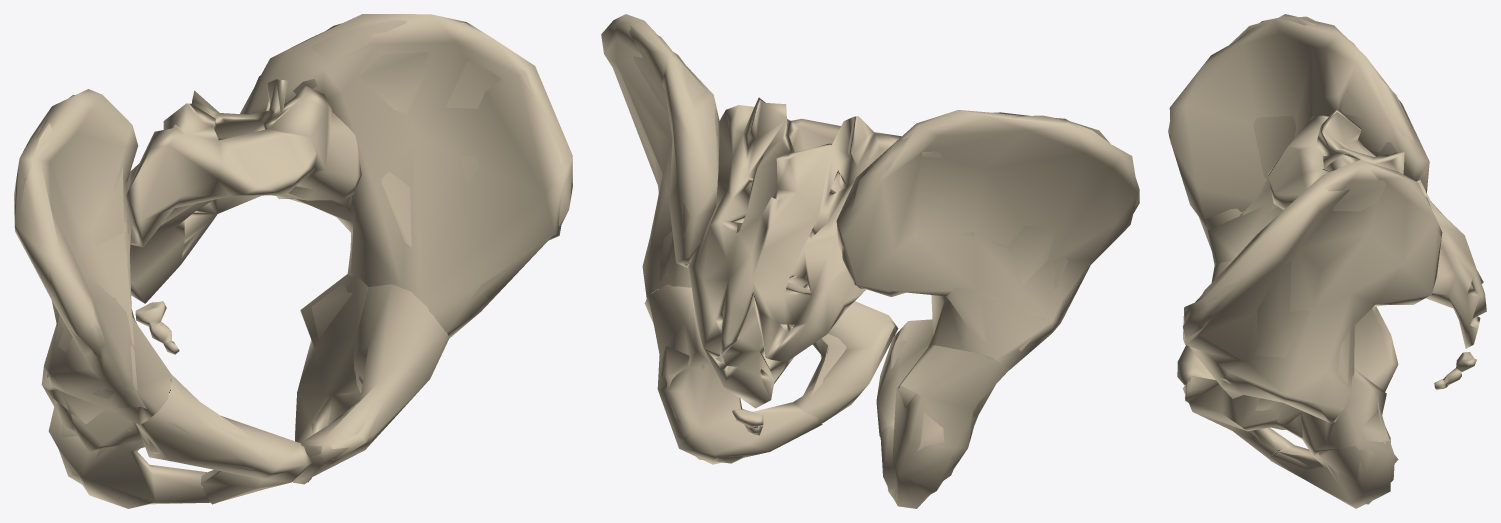
File: pelvis.glb
The picture shows the model from 3 angles, left to right: view 1: azimuth 30°, elevation 25°; view 2: azimuth 150°, elevation 25°; view 3: azimuth 270°, elevation 25°; orthographic projection. The views are drawn at different scales.
Visible parts, largest first — view 1: VH_M_ilium_compact_bone_L, VH_M_sacrum, VH_M_ilium_compact_bone_R, VH_M_pubis_compact_bone_L, VH_M_pubis_compact_bone_R, VH_M_ilium_spongy_bone_L, VH_M_ischium_compact_bone_R, VH_M_ilium_spongy_bone_R, VH_M_ischium_compact_bone_L, VH_M_ischium_spongy_bone_L, VH_M_ischium_spongy_bone_R, VH_M_pubis_spongy_bone_L (+2 smaller); view 2: VH_M_ilium_compact_bone_R, VH_M_sacrum, VH_M_ilium_compact_bone_L, VH_M_ischium_compact_bone_L, VH_M_ischium_compact_bone_R, VH_M_ilium_spongy_bone_R, VH_M_pubis_compact_bone_L, VH_M_ilium_spongy_bone_L, VH_M_pubis_compact_bone_R, VH_M_ischium_spongy_bone_R, VH_M_ischium_spongy_bone_L, VH_M_pubis_spongy_bone_L; view 3: VH_M_ilium_compact_bone_L, VH_M_ilium_compact_bone_R, VH_M_sacrum, VH_M_ischium_compact_bone_L, VH_M_ilium_spongy_bone_L, VH_M_ilium_spongy_bone_R, VH_M_pubis_compact_bone_L, VH_M_ischium_compact_bone_R, VH_M_ischium_spongy_bone_L, VH_M_pubis_compact_bone_R, VH_M_coccyx, VH_M_pubis_spongy_bone_L.
Boxes of the visible parts, x1=… form: VH_M_ilium_compact_bone_L: x1=240, y1=14, x2=572, y2=338; VH_M_sacrum: x1=126, y1=79, x2=361, y2=303; VH_M_ilium_compact_bone_R: x1=14, y1=89, x2=171, y2=424; VH_M_pubis_compact_bone_L: x1=293, y1=284, x2=449, y2=484; VH_M_pubis_compact_bone_R: x1=135, y1=374, x2=312, y2=504; VH_M_ilium_spongy_bone_L: x1=289, y1=19, x2=572, y2=335; VH_M_ischium_compact_bone_R: x1=42, y1=385, x2=209, y2=508; VH_M_ilium_spongy_bone_R: x1=20, y1=95, x2=146, y2=408; VH_M_ischium_compact_bone_L: x1=295, y1=274, x2=368, y2=482; VH_M_ischium_spongy_bone_L: x1=311, y1=282, x2=352, y2=434; VH_M_ischium_spongy_bone_R: x1=53, y1=393, x2=133, y2=484; VH_M_pubis_spongy_bone_L: x1=304, y1=376, x2=382, y2=467; VH_M_ilium_compact_bone_R: x1=836, y1=110, x2=1139, y2=369; VH_M_sacrum: x1=689, y1=97, x2=901, y2=408; VH_M_ilium_compact_bone_L: x1=601, y1=14, x2=720, y2=298; VH_M_ischium_compact_bone_L: x1=644, y1=284, x2=822, y2=464; VH_M_ischium_compact_bone_R: x1=880, y1=345, x2=1009, y2=508; VH_M_ilium_spongy_bone_R: x1=841, y1=115, x2=1139, y2=357; VH_M_pubis_compact_bone_L: x1=793, y1=287, x2=898, y2=423; VH_M_ilium_spongy_bone_L: x1=613, y1=18, x2=718, y2=281; VH_M_pubis_compact_bone_R: x1=876, y1=319, x2=933, y2=437; VH_M_ischium_spongy_bone_R: x1=887, y1=353, x2=991, y2=500; VH_M_ischium_spongy_bone_L: x1=662, y1=346, x2=744, y2=463; VH_M_pubis_spongy_bone_L: x1=791, y1=321, x2=894, y2=414; VH_M_ilium_compact_bone_L: x1=1183, y1=160, x2=1442, y2=423; VH_M_ilium_compact_bone_R: x1=1169, y1=14, x2=1429, y2=264; VH_M_sacrum: x1=1268, y1=109, x2=1486, y2=348; VH_M_ischium_compact_bone_L: x1=1270, y1=369, x2=1398, y2=508; VH_M_ilium_spongy_bone_L: x1=1183, y1=164, x2=1441, y2=383; VH_M_ilium_spongy_bone_R: x1=1168, y1=16, x2=1427, y2=249; VH_M_pubis_compact_bone_L: x1=1182, y1=376, x2=1293, y2=459; VH_M_ischium_compact_bone_R: x1=1282, y1=307, x2=1398, y2=429; VH_M_ischium_spongy_bone_L: x1=1279, y1=408, x2=1394, y2=504; VH_M_pubis_compact_bone_R: x1=1177, y1=261, x2=1283, y2=429; VH_M_coccyx: x1=1434, y1=352, x2=1476, y2=389; VH_M_pubis_spongy_bone_L: x1=1184, y1=381, x2=1290, y2=448.
Size of the model in its own units: 0.2973 by 0.2297 by 0.1783.
